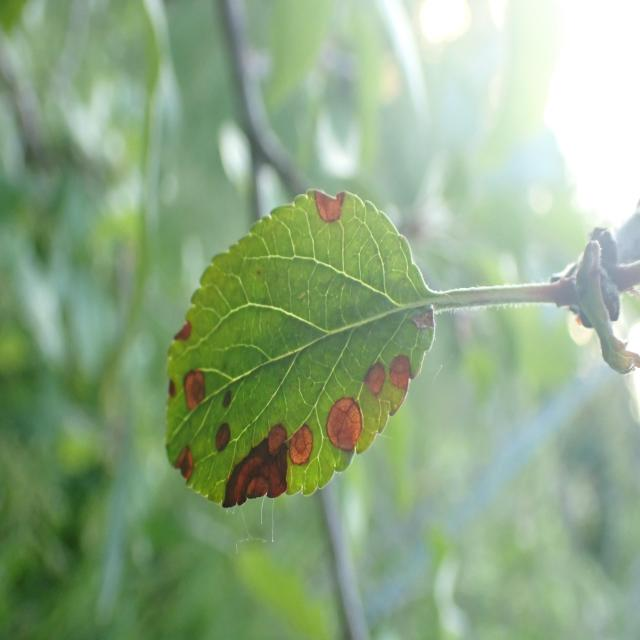Black Rot: (226, 412, 298, 525), (323, 398, 372, 467), (354, 348, 393, 417), (307, 181, 354, 237), (200, 411, 248, 464), (404, 300, 448, 352), (288, 412, 318, 483), (162, 432, 197, 491), (382, 344, 427, 389), (182, 366, 214, 428), (158, 310, 199, 355), (159, 366, 179, 408)
